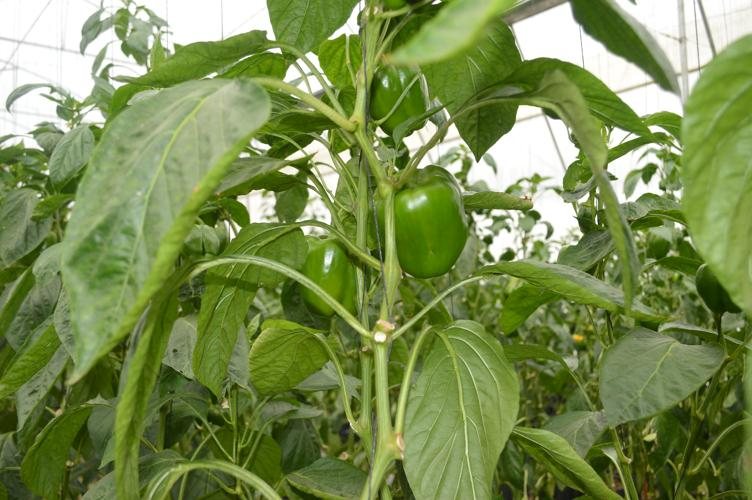BellPepper: (368, 170, 473, 284), (297, 228, 363, 317), (367, 66, 435, 141)
